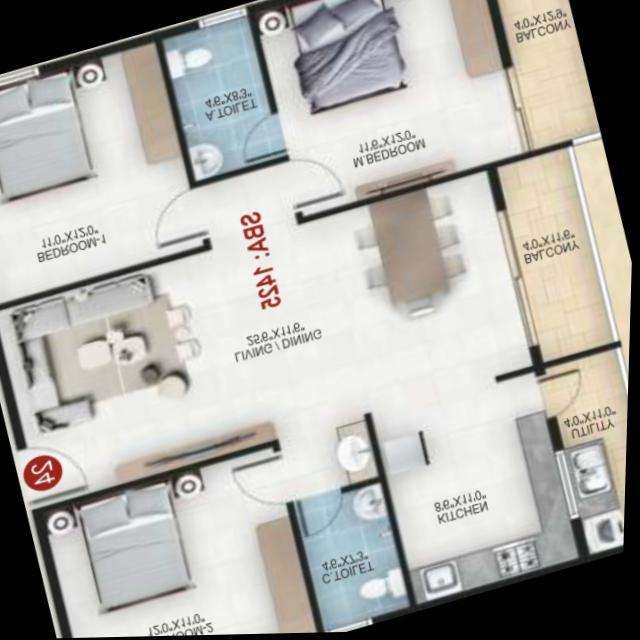Balcony-Sitout: (496, 148, 615, 366), (493, 0, 601, 152)
Bedroom: (0, 39, 205, 305), (42, 445, 323, 638)
Bedroom with Toilet: (155, 0, 527, 221)
Dining: (345, 181, 483, 332)
Enterance-Foyer: (16, 428, 100, 509)
Kitchen: (371, 371, 581, 606)
Living: (0, 243, 282, 507)
Toilet: (160, 17, 283, 182), (294, 482, 413, 633)
Utility: (538, 351, 630, 559)
